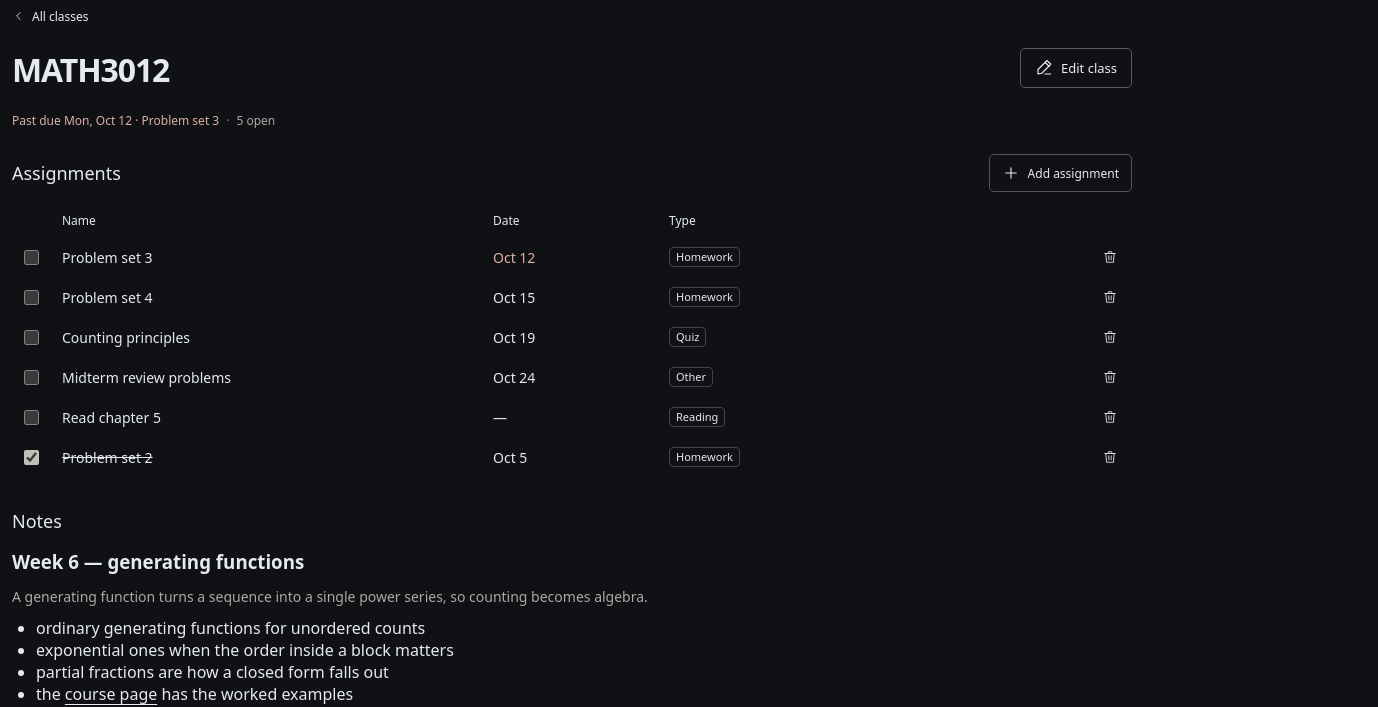
summarizes the open class in its header and follows the table when one is completed
This screenshot has width=1378, height=707.
Expected: the text "Past due Mon, Oct 12 · Problem set 3" is shown, [12,111,219,130]
Expected: the text "5 open" is shown, [219,111,275,130]
What coordinates should you click on to do the following:
click the checkbox named "Mark Problem set 3 done"
I would click on:
 (32, 258)
Its box is [24,250,39,265].
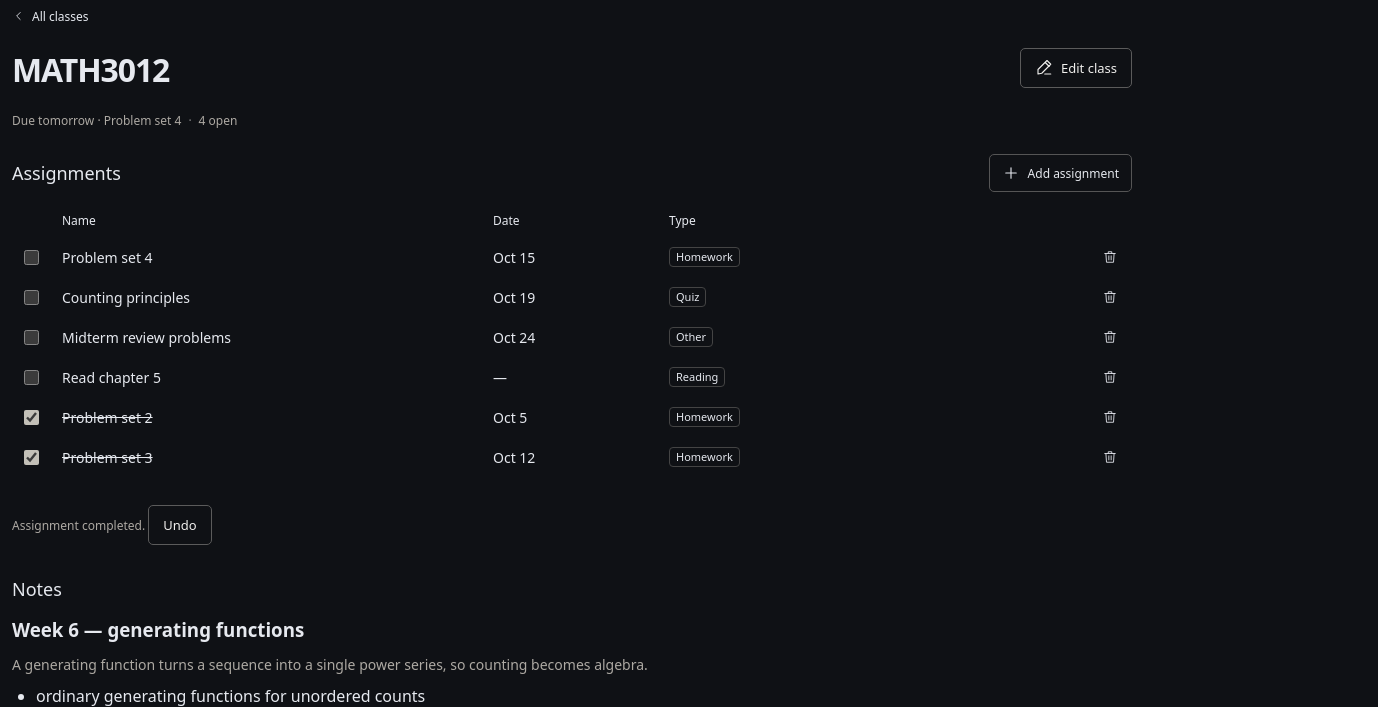
Result: the text "Due tomorrow · Problem set 4" is shown at [12,111,181,130]
Result: the text "4 open" is shown at [181,111,237,130]
